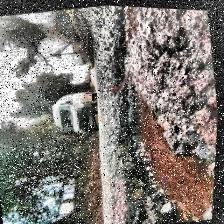pothole: (82, 4, 224, 224)
